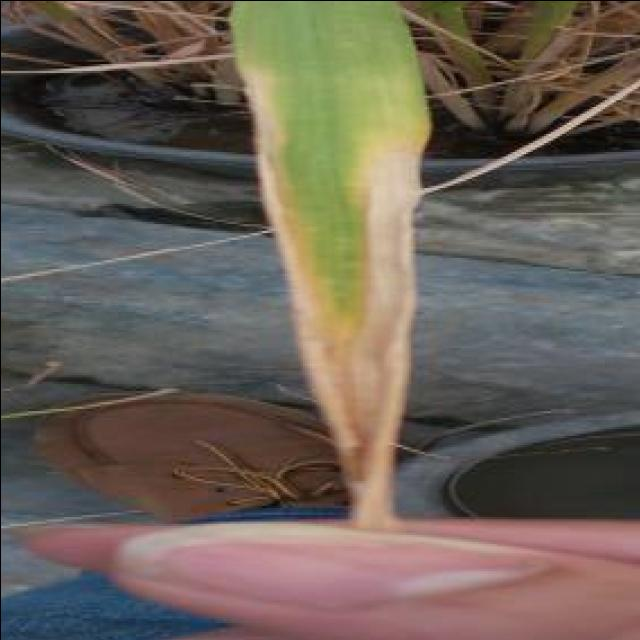Bacterial_Leaf_Blight: (245, 21, 438, 510)
